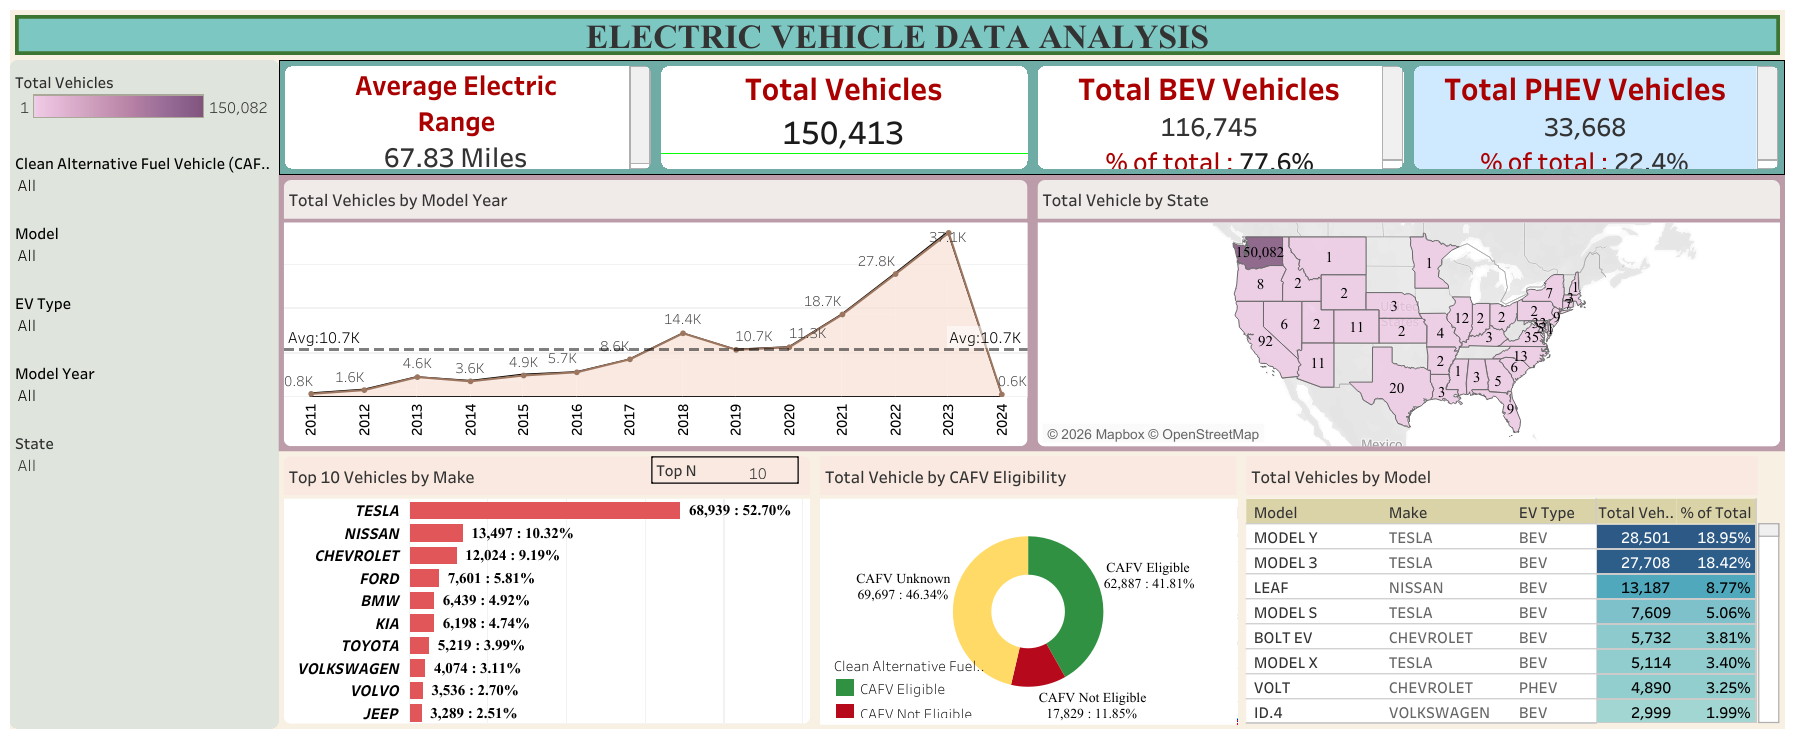

The dashboard page shown, as its layout file describes it:
{"tool":"tableau","page":{"name":"Dashboard 1","canvas":[1000,1000],"units":"permille","ordinal":0},"visuals":[{"type":"title","box":[4.8,9.4,990.3,68.1]},{"type":"legend","title":"Total Vehicles by State","param":"[federated.0seduhu06qif7j1gtno851kmyj6l].[usr:Calculation_1161148856705024:qk]","box":[4.8,77.5,149.6,85.8]},{"type":"worksheet","title":"Average Electric Range","mark":"Automatic","box":[155.1,78.7,210,155.1]},{"type":"worksheet","title":"Total Vehicles","mark":"Automatic","box":[365.1,78.7,210,155.1]},{"type":"worksheet","title":"Total BEV Vehicles","mark":"Automatic","box":[575.1,78.7,210,155.1]},{"type":"worksheet","title":"Total PHEV Vehicles","mark":"Automatic","box":[785.1,78.7,209.4,155.1]},{"type":"filter","title":"Total Vehicles by Model Year","param":"[federated.0seduhu06qif7j1gtno851kmyj6l].[none:Clean Alternative Fuel Vehicle (C","box":[4.8,163.3,149.6,71.7]},{"type":"filter","title":"Total Vehicles by Model Year","param":"[federated.0seduhu06qif7j1gtno851kmyj6l].[none:Model:nk]","box":[4.8,235,149.6,71.7]},{"type":"worksheet","title":"Total Vehicles by Model Year","mark":"Area","rows":["Calculation_1161148856705024","Calculation_1161148856705024"],"cols":["Model Year"],"box":[154.5,235,420.6,376]},{"type":"worksheet","title":"Total Vehicles by State","mark":"Multipolygon","box":[575.1,235,420,376]},{"type":"filter","title":"Total Vehicles by Model Year","param":"[federated.0seduhu06qif7j1gtno851kmyj6l].[none:Electric Vehicle Type:nk]","box":[4.8,306.7,149.6,71.7]},{"type":"filter","title":"Total Vehicles by Model Year","param":"[federated.0seduhu06qif7j1gtno851kmyj6l].[none:Model Year:ok]","box":[4.8,378.4,149.6,71.7]},{"type":"filter","title":"Top 10 Vehicles by Make","param":"[federated.0seduhu06qif7j1gtno851kmyj6l].[none:State:nk]","box":[4.8,450,149.6,71.7]},{"type":"worksheet","title":"Top 10 Vehicles by Make","mark":"Automatic","rows":["Make"],"cols":["Calculation_1161148856705024"],"box":[154.5,611.2,299.4,379.4]},{"type":"worksheet","title":"Total Vehicle by CAFV Eligibility","mark":"Pie","rows":["Calculation_1161148890771463","Calculation_1161148890771463"],"box":[453.8,611.2,237.8,379.4]},{"type":"worksheet","title":"Total Vehicles by Model","mark":"Square","rows":["Model","Make","Electric Vehicle Type"],"box":[691.6,611.2,303.6,379.4]},{"type":"parameter","param":"[Parameters].[Parameter 1]","box":[362.7,618.1,82.1,36.4]},{"type":"legend","title":"Total Vehicle by CAFV Eligibility","param":"[federated.0seduhu06qif7j1gtno851kmyj6l].[none:Clean Alternative Fuel Vehicle (C","box":[463.5,882.5,84.5,89.3]}]}

Visuals, with their boxes on the dashboard's canvas, which has no fixed pixel size, in thousandths of its width and height (x1, y1, x2, y2). These are canvas units, not pixel positions in the 1794x738 screenshot, which may show the page scaled, cropped or inside an application window:
title: <bbox>5, 9, 995, 78</bbox>
"Total Vehicles by State" legend: <bbox>5, 78, 154, 163</bbox>
"Average Electric Range" worksheet: <bbox>155, 79, 365, 234</bbox>
"Total Vehicles" worksheet: <bbox>365, 79, 575, 234</bbox>
"Total BEV Vehicles" worksheet: <bbox>575, 79, 785, 234</bbox>
"Total PHEV Vehicles" worksheet: <bbox>785, 79, 994, 234</bbox>
"Total Vehicles by Model Year" filter: <bbox>5, 163, 154, 235</bbox>
"Total Vehicles by Model Year" filter: <bbox>5, 235, 154, 307</bbox>
"Total Vehicles by Model Year" worksheet (Area marks): <bbox>154, 235, 575, 611</bbox>
"Total Vehicles by State" worksheet (Multipolygon marks): <bbox>575, 235, 995, 611</bbox>
"Total Vehicles by Model Year" filter: <bbox>5, 307, 154, 378</bbox>
"Total Vehicles by Model Year" filter: <bbox>5, 378, 154, 450</bbox>
"Top 10 Vehicles by Make" filter: <bbox>5, 450, 154, 522</bbox>
"Top 10 Vehicles by Make" worksheet: <bbox>154, 611, 454, 991</bbox>
"Total Vehicle by CAFV Eligibility" worksheet (Pie marks): <bbox>454, 611, 692, 991</bbox>
"Total Vehicles by Model" worksheet (Square marks): <bbox>692, 611, 995, 991</bbox>
parameter: <bbox>363, 618, 445, 654</bbox>
"Total Vehicle by CAFV Eligibility" legend: <bbox>464, 882, 548, 972</bbox>
